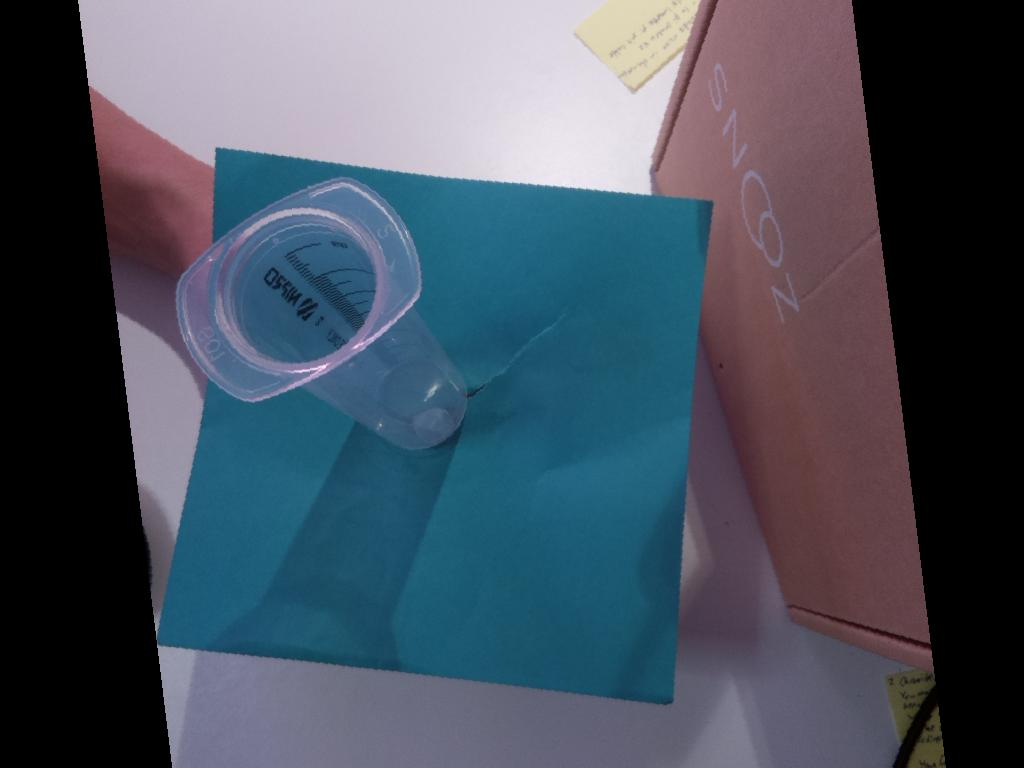clean: (175, 174, 425, 403)
